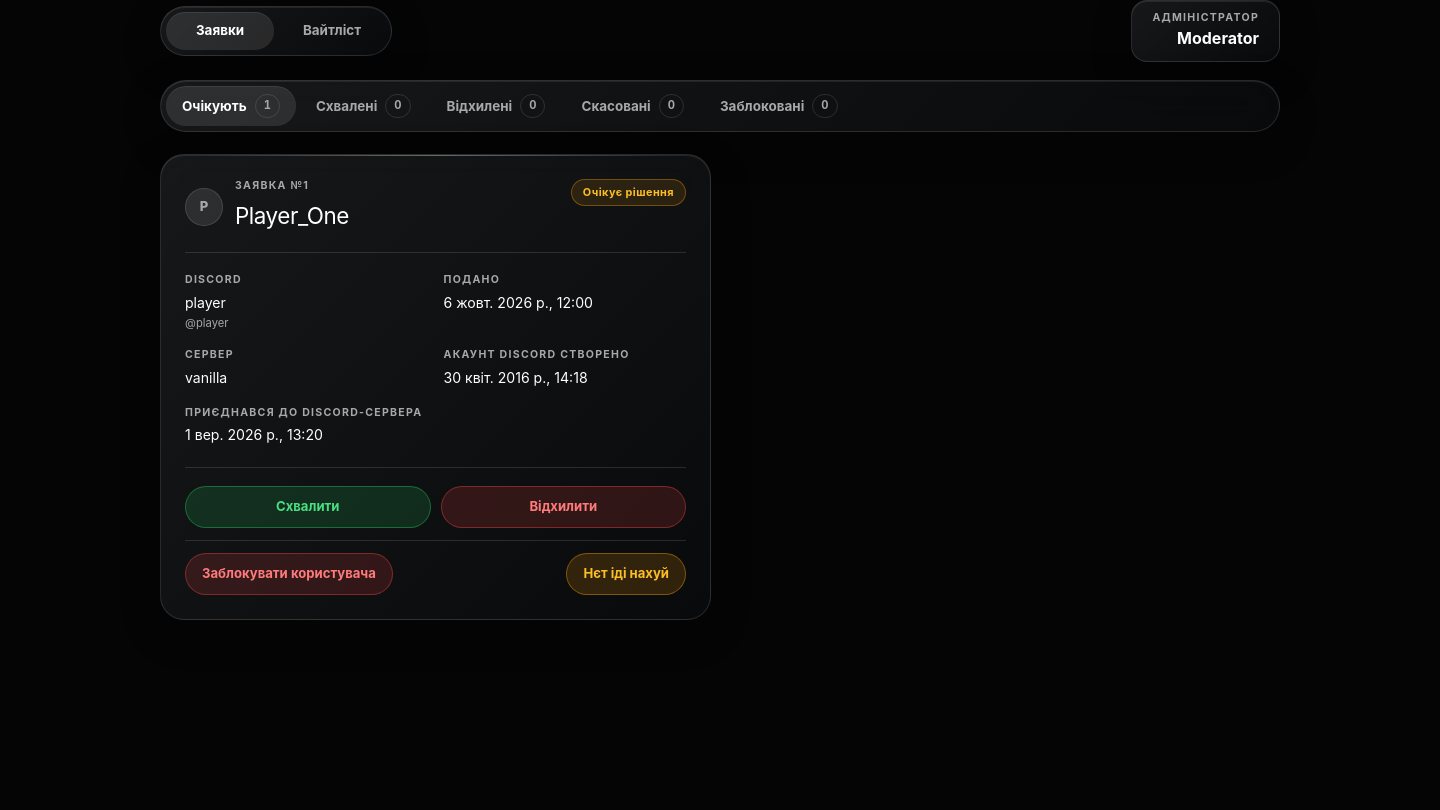
Test: submits the rejection reason from the extracted application card
Click the button "Відхилити": {"x": 563, "y": 507} 440,486 -> 686,528
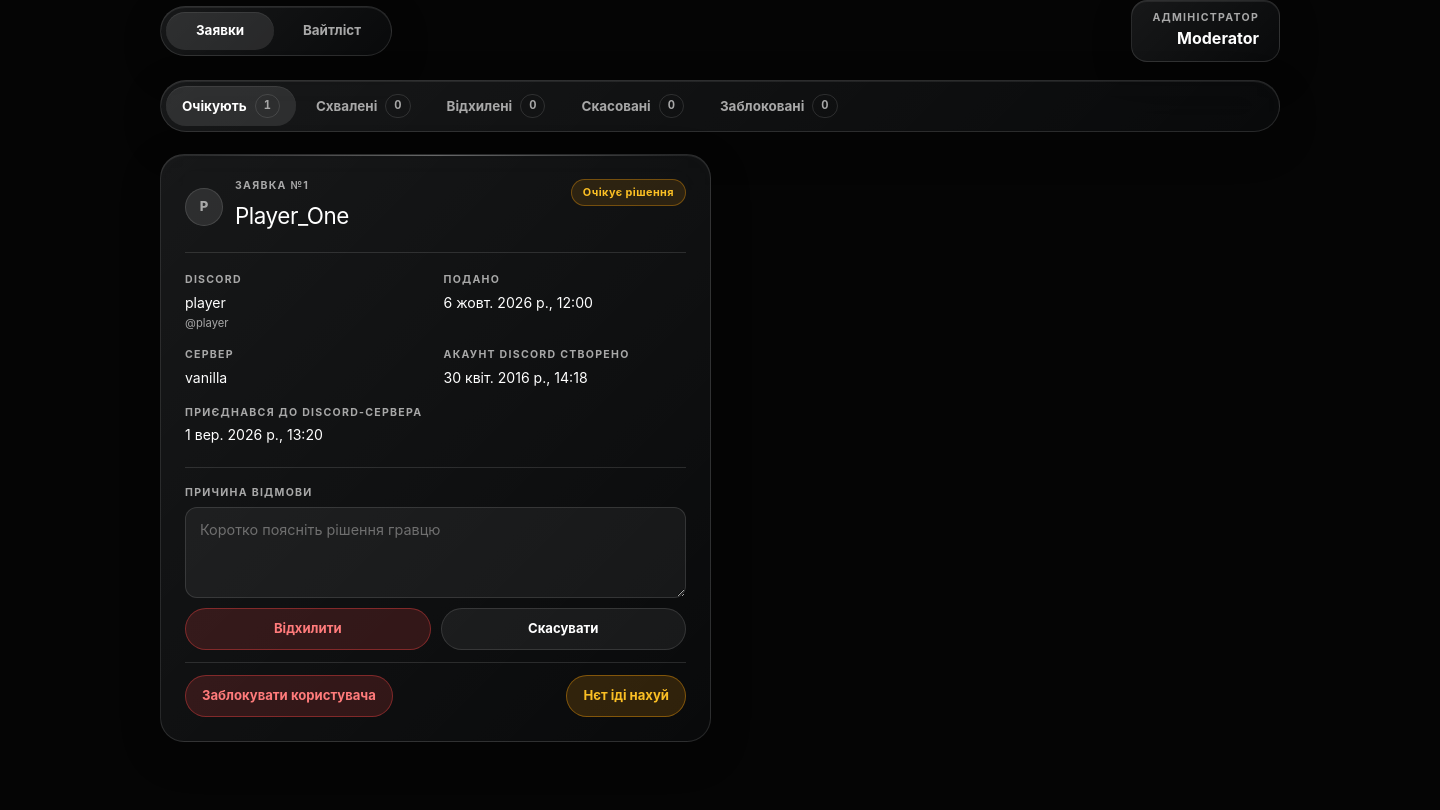
In the text box labelled "Причина відмови": {"x": 436, "y": 552} 185,507 -> 686,598, type "Потрібне уточнення"
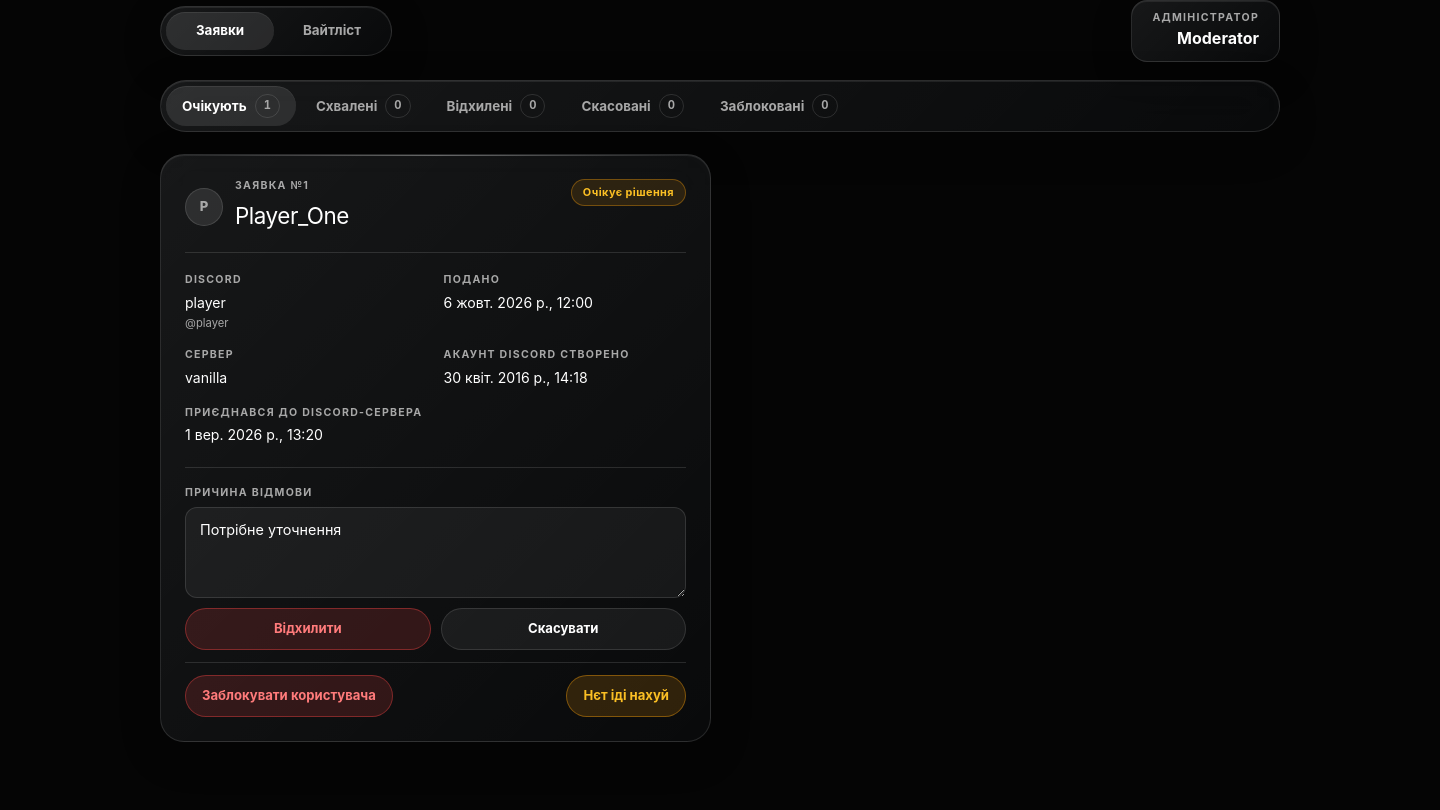
Click the button "Відхилити": {"x": 308, "y": 629} 185,608 -> 430,650
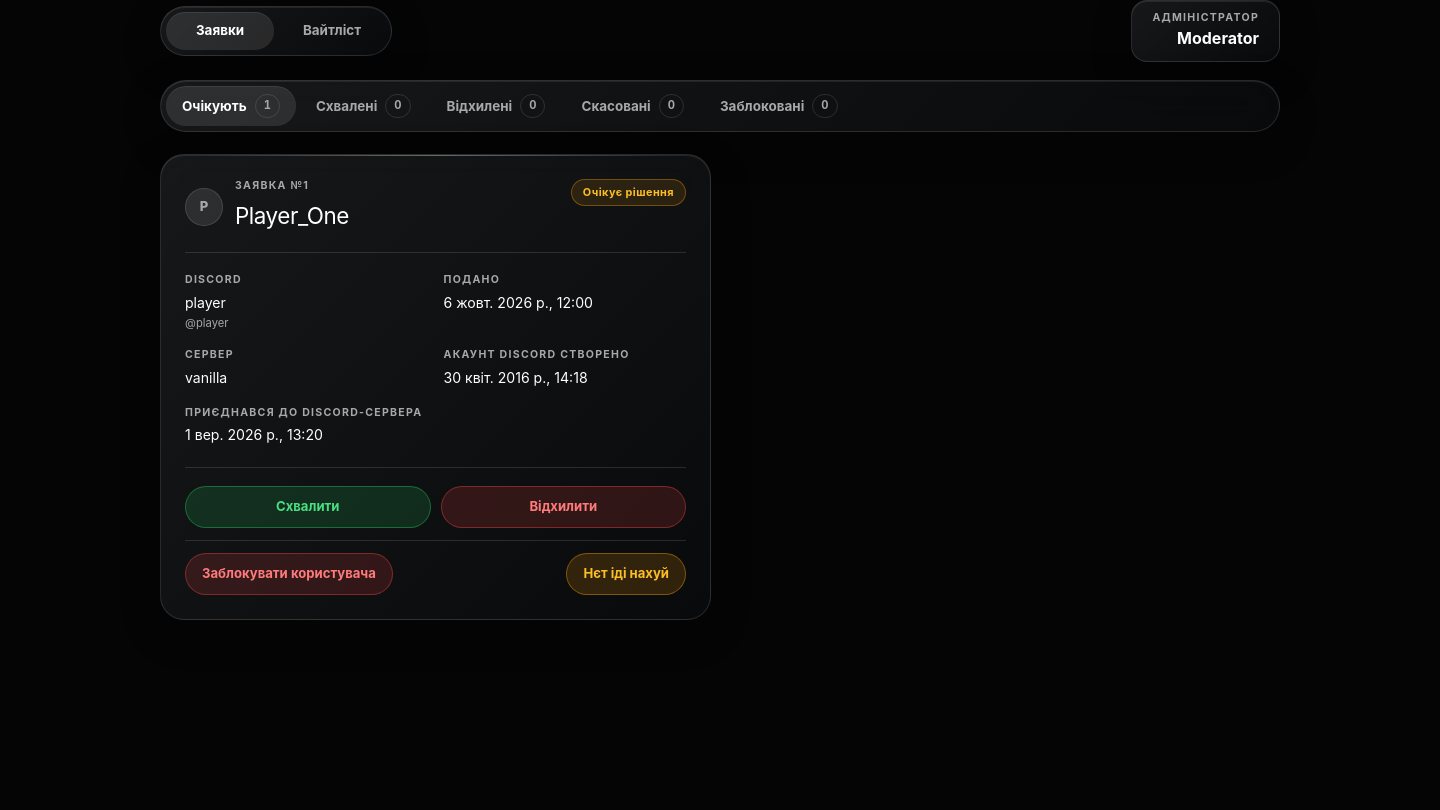
Check: the label labelled "Причина відмови" is gone
